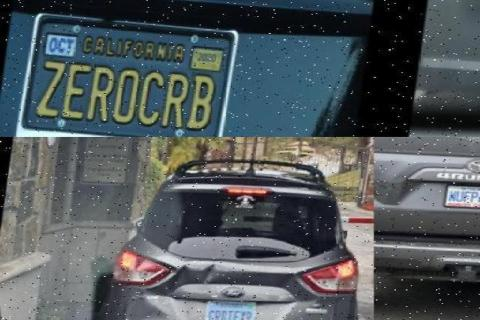LicensePlate: (7, 3, 242, 137), (200, 300, 252, 319), (439, 185, 478, 210)
